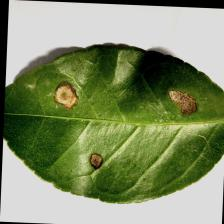canker: (46, 66, 202, 168)
